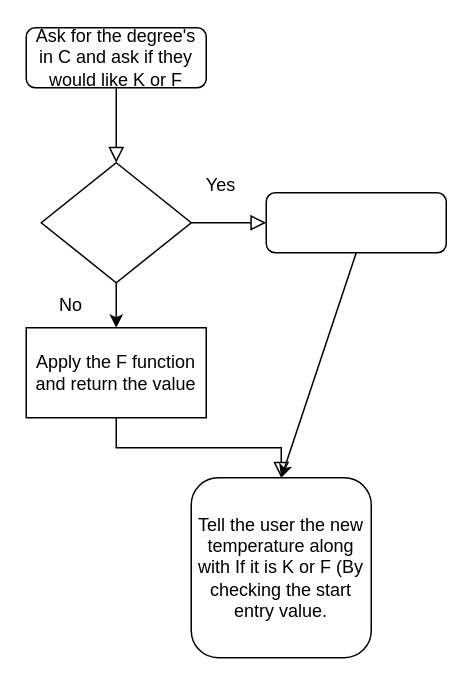
This 473x684 diagram has some shape labels left out. The centre of each missing label's shape, as x and y in pixels:
"Apply the Kelvin function and return the new value" belongs at [355,222].
"If user said K" belongs at [115,222].
